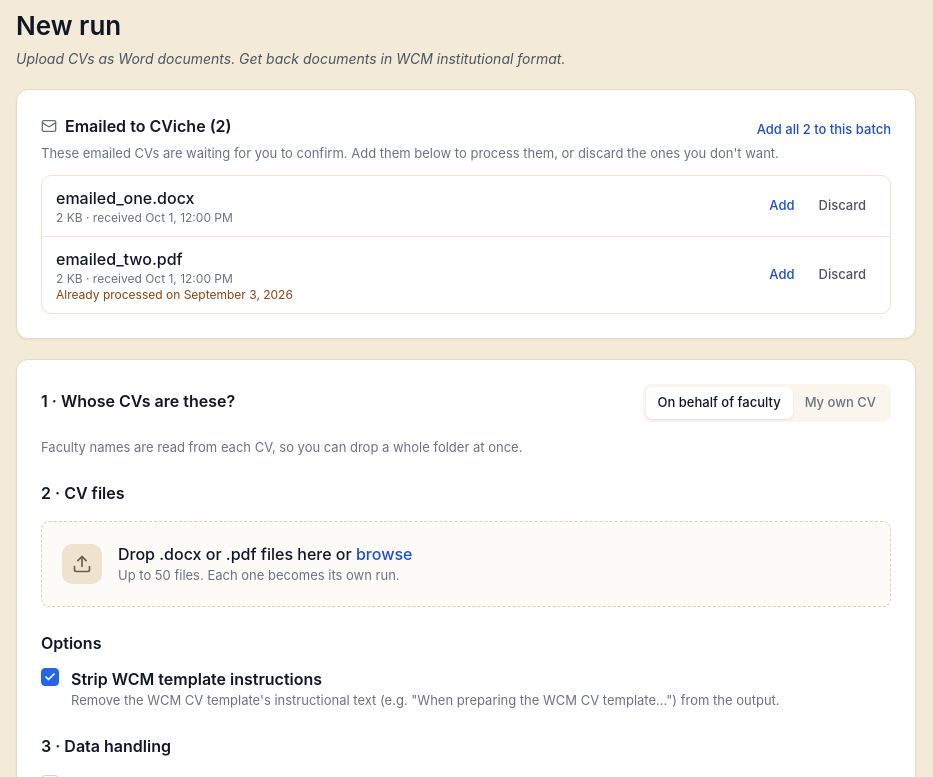
Test: UploadPage emailed CV inbox (#1298) › discards one item and re-reads the list
Click the button with aria-label "Discard emailed_one.docx".
click(842, 206)  # box [808,192,876,220]
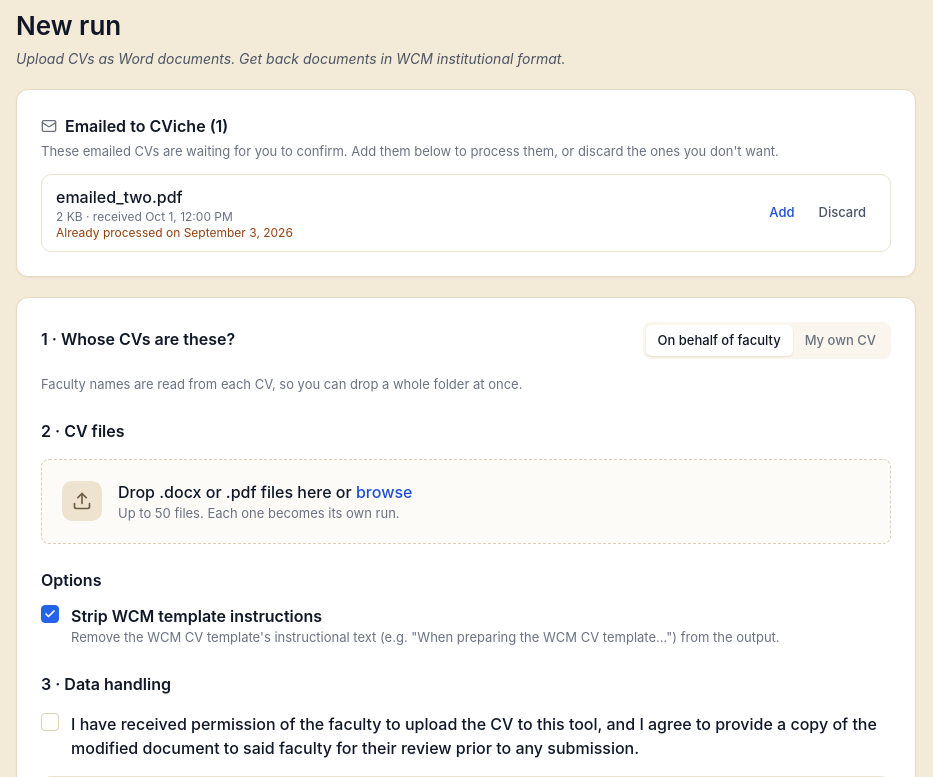
Expected: the heading "Emailed to CViche (1)" is shown, [41,114,228,138]
